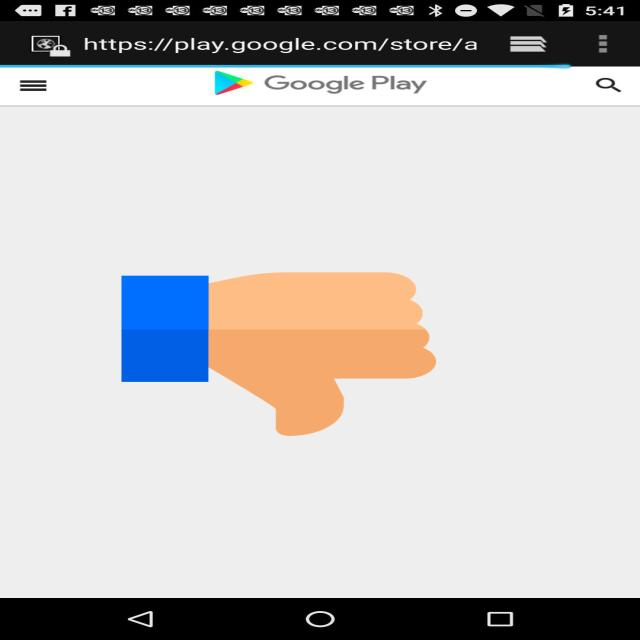obstruction: (122, 268, 436, 440)
